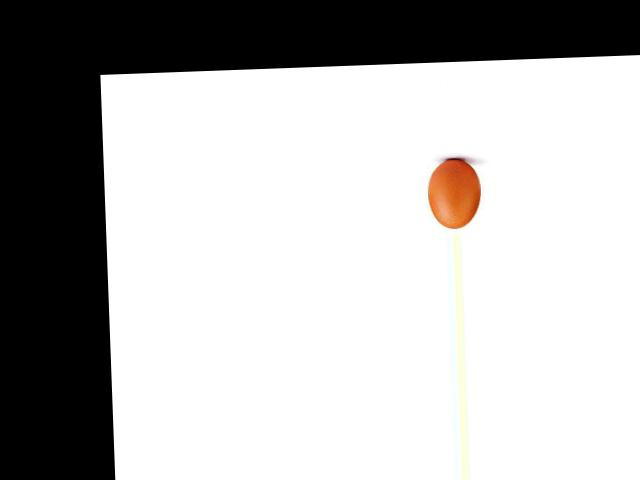egg: (428, 157, 481, 229)
